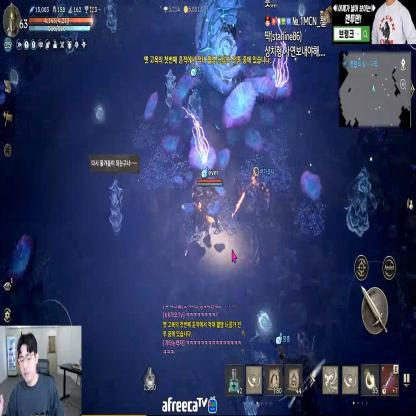streamer: (0, 333, 66, 416)
